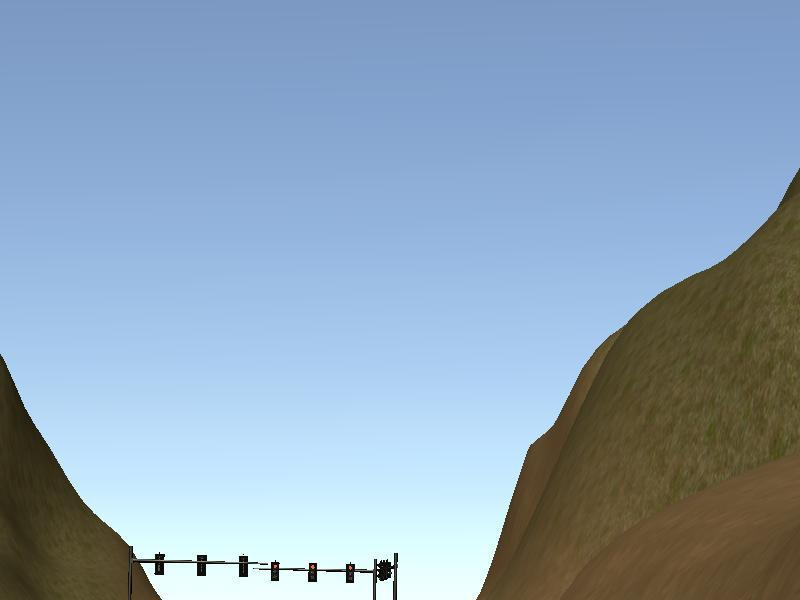Red: (345, 562, 354, 584), (270, 561, 279, 582), (308, 562, 317, 583)
